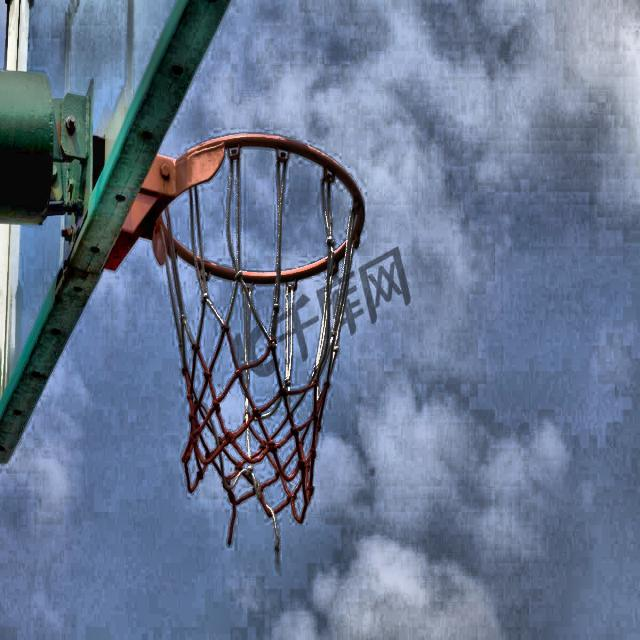rim: (160, 134, 366, 530)
